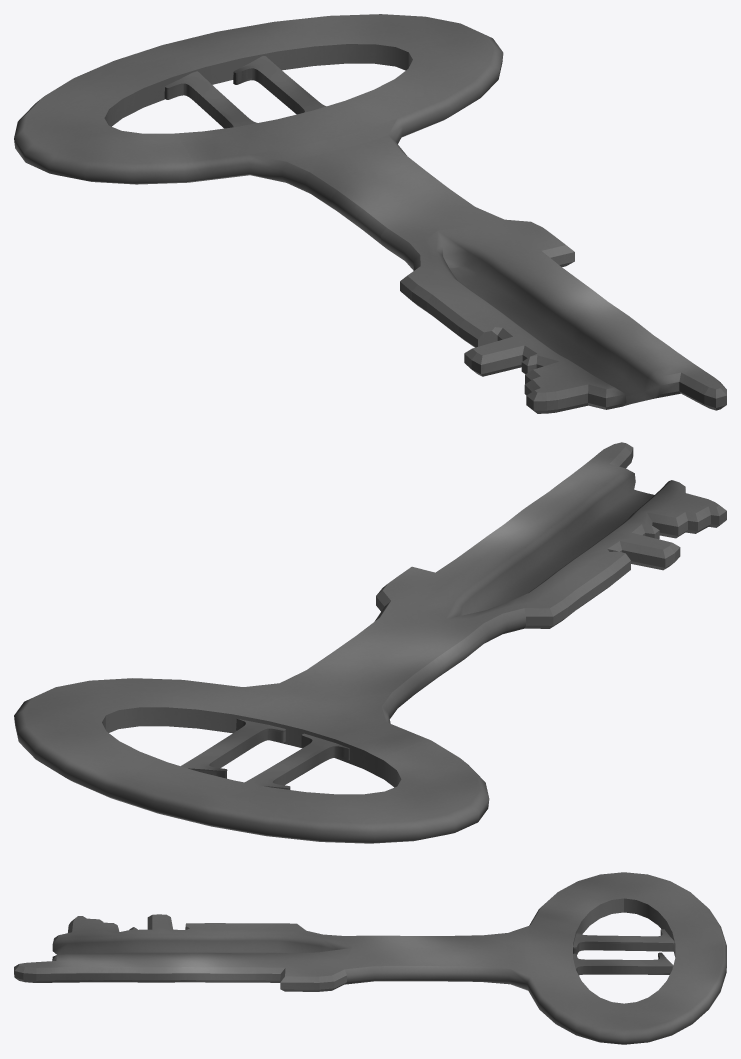
File: extra_key_11.fbx
The picture shows the model from 3 angles, top to bottom: view 1: azimuth 30°, elevation 25°; view 2: azimuth 150°, elevation 25°; view 3: azimuth 270°, elevation 25°; orthographic projection. The views are drawn at different scales.
Parts seen in each view (by area): view 1: key_base, typeMesh1, typeMesh2; view 2: key_base, typeMesh1, typeMesh2; view 3: key_base, typeMesh2, typeMesh1.
Part boxes in pixels (<box>): key_base: <box>14,14,726,413</box>; typeMesh1: <box>233,56,326,114</box>; typeMesh2: <box>164,71,256,128</box>; key_base: <box>14,442,726,843</box>; typeMesh1: <box>181,719,285,778</box>; typeMesh2: <box>245,733,349,789</box>; key_base: <box>14,872,726,1044</box>; typeMesh2: <box>573,929,674,954</box>; typeMesh1: <box>573,952,673,975</box>.
Size of the model in its own units: 22.02 by 0.9801 by 40.42.
Materials: 2 (2 with a texture image).
